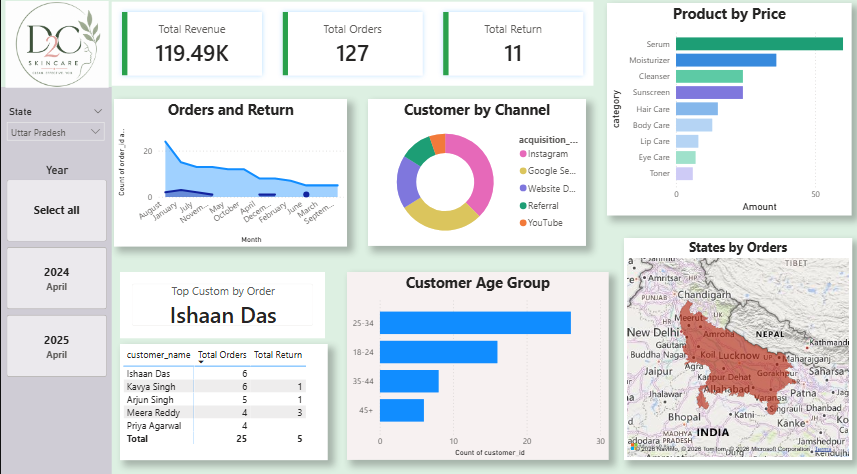

Layout of this report page (visuals, bound fields, positions):
{"tool":"powerbi","page":{"name":"Page 1","canvas":[1280,720],"ordinal":0},"visuals":[{"type":"shape","box":[1.8,126.5,162.7,593.5],"z":0},{"type":"barChart","title":"Customer Age Group","fields":{"Category":["Customers.age_group"],"Y":["CountNonNull(Customers.customer_id)"]},"box":[507.7,411.2,382.6,275.3],"z":1000},{"type":"donutChart","title":"Customer by Channel","fields":{"Category":["Customers.acquisition_channel"],"Y":["CountNonNull(Customers.customer_id)"]},"box":[538.5,158,319,215.1],"z":2000},{"type":"areaChart","title":"Orders and Return","fields":{"Category":["Orders.Date Hierarchy.Month"],"Y":["CountNonNull(Orders.order_id)","CountNonNull(Returns.return_id)"]},"box":[166.3,157.3,341.5,216.3],"z":3000},{"type":"pivotTable","fields":{"Rows":["Customers.customer_name"],"Values":["Measures_table.Total Orders","Measures_table.Total Return"]},"box":[175.2,516.6,303.9,169.8],"z":4000},{"type":"barChart","title":"Product by Price","fields":{"Category":["Products.category"],"Y":["CountNonNull(Orders.final_amount)"]},"box":[888.5,17.9,357.5,311.1],"z":5000},{"type":"filledMap","title":"States by Orders","fields":{"Category":["Customers.state"]},"box":[913.2,361.5,333.7,324.9],"z":6000},{"type":"advancedSlicerVisual","title":"Year","fields":{"Label":["Min(Orders.Date Hierarchy.Month)"],"Values":["Orders.Date Hierarchy.Year"]},"box":[0,252.1,162.7,320],"z":8500},{"type":"slicer","fields":{"Values":["Customers.state","Customers.city"]},"box":[0,164.5,162.7,75.1],"z":8750},{"type":"cardVisual","fields":{"Data":["Measures_table.Total Revenue","Measures_table.Total Orders","Measures_table.Total Return"]},"box":[162.7,14.3,707.9,125.1],"z":9000},{"type":"image","box":[0,14.3,166.3,126.9],"z":9001},{"type":"cardVisual","fields":{"Data":["Min(Customers.customer_name)"]},"box":[175.2,411.2,300.3,96.5],"z":9002}]}

Visuals, with their boxes in screenshot pixels (x1, y1, x2, y2), scaled from the page's 1280x720 canvas onto the 857x474 screenshot:
shape: 1, 83, 110, 473
"Customer Age Group" barChart: 340, 271, 596, 452
"Customer by Channel" donutChart: 361, 104, 574, 246
"Orders and Return" areaChart: 111, 104, 340, 246
pivotTable - Customers.customer_name x Measures_table.Total Orders: 117, 340, 321, 452
"Product by Price" barChart: 595, 12, 834, 217
"States by Orders" filledMap: 611, 238, 835, 452
"Year" advancedSlicerVisual: 0, 166, 109, 377
slicer - Customers.state x Customers.city: 0, 108, 109, 158
cardVisual - Measures_table.Total Revenue x Measures_table.Total Orders: 109, 9, 583, 92
image: 0, 9, 111, 93
cardVisual - Min(Customers.customer_name): 117, 271, 318, 334
